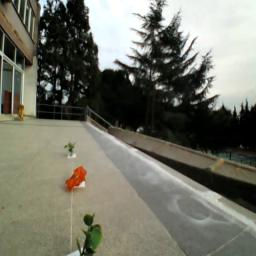herb: (76, 213, 105, 256), (66, 142, 78, 157)
wild: (65, 167, 88, 193)
